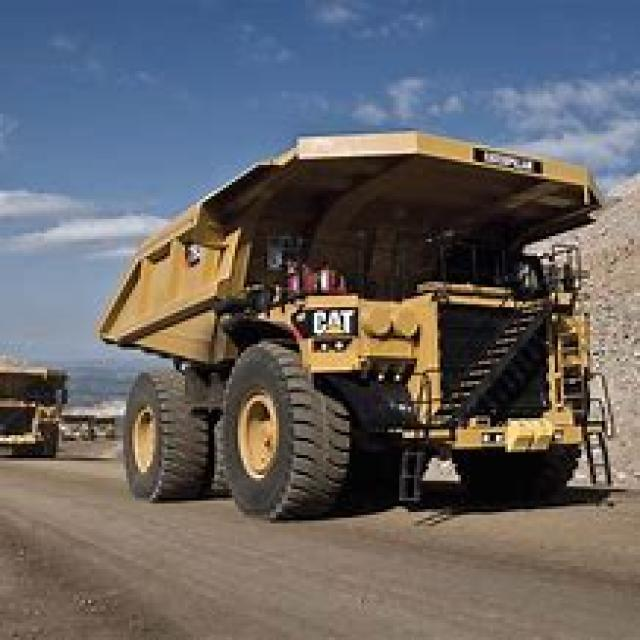dump_truck: (88, 125, 620, 518)
